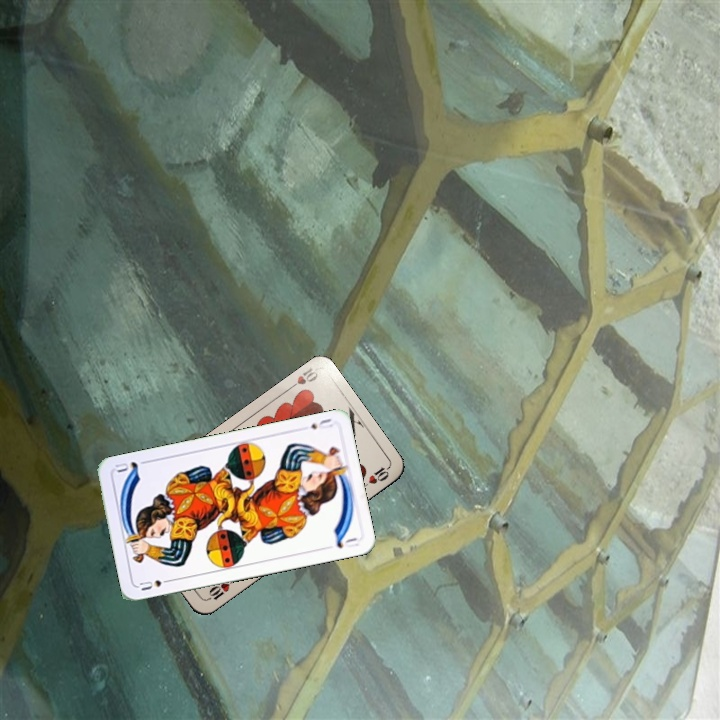H10: (283, 363, 321, 393), (202, 575, 238, 604)
SU: (135, 575, 175, 593), (306, 414, 335, 432)
